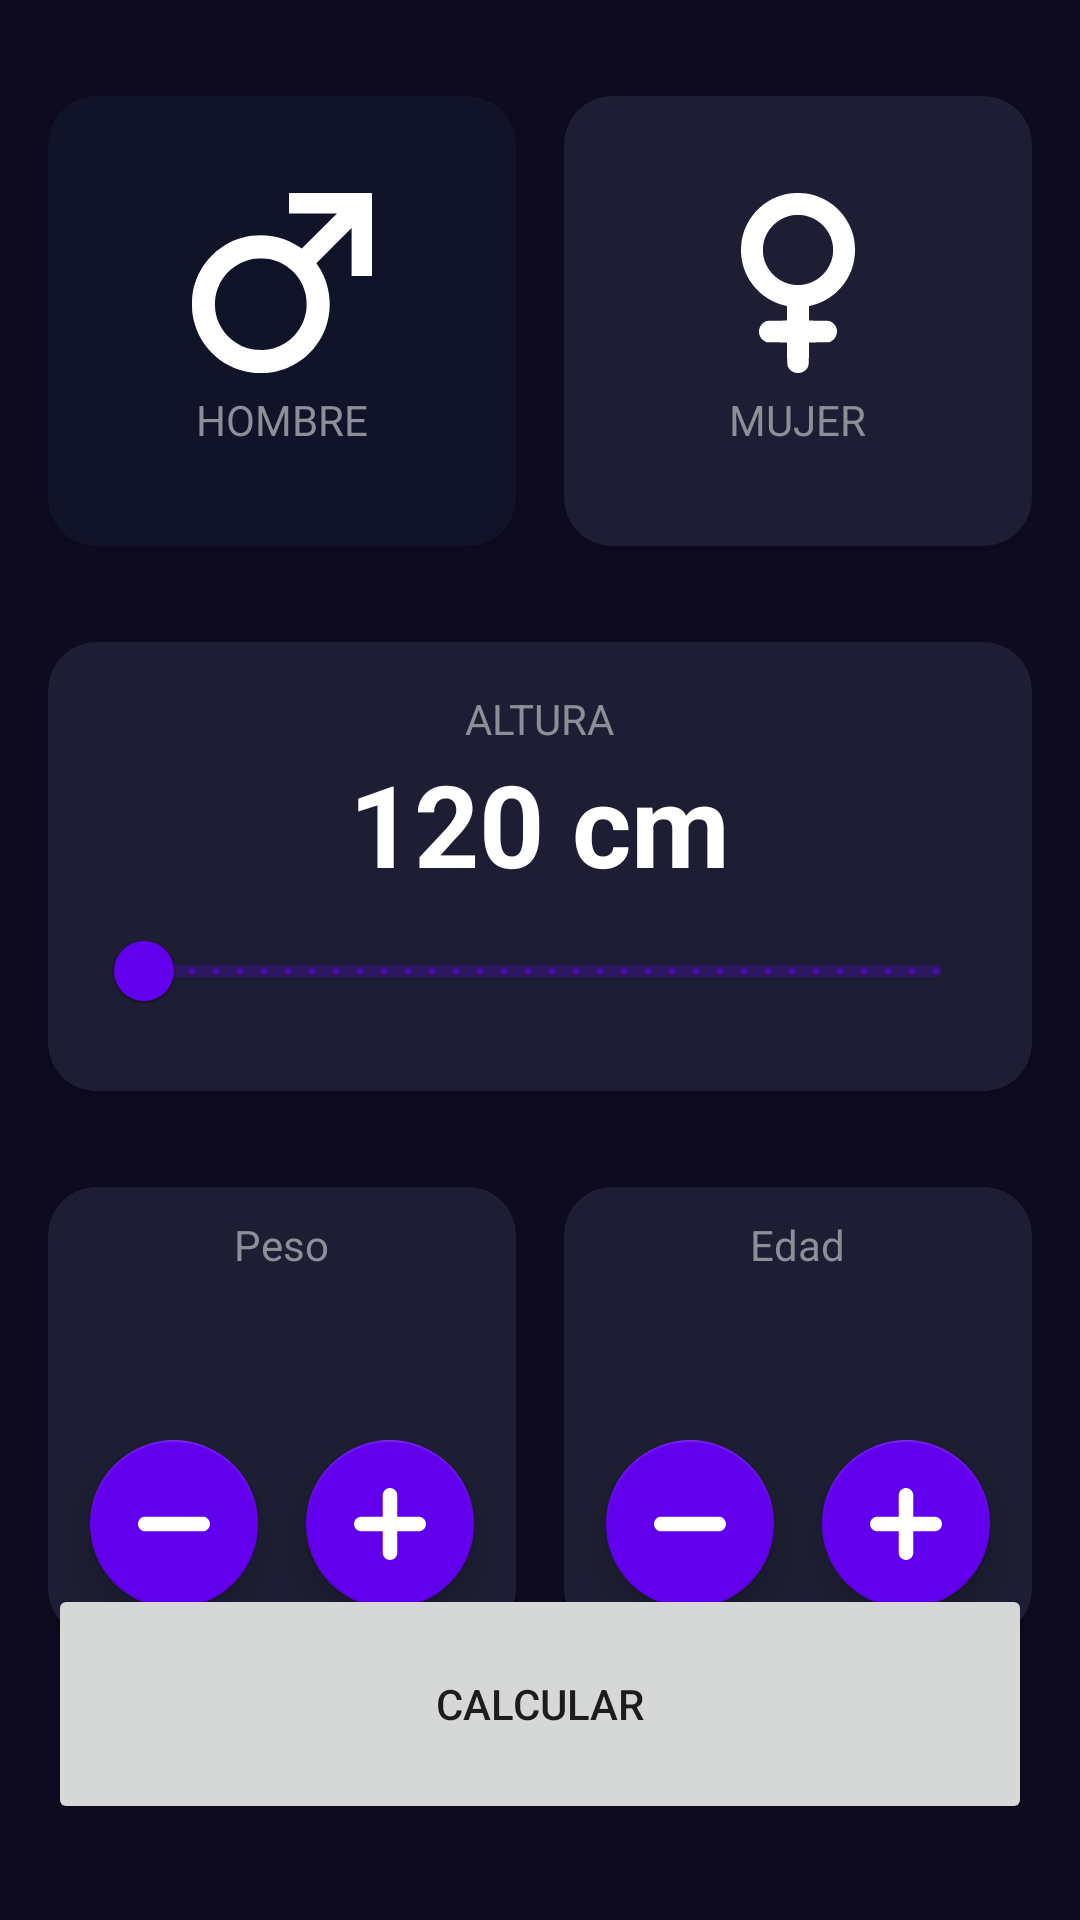

Icons on this 1080px×1920px Android screen, each with its box as (x1, y1, x2, y2):
plus: (306, 1440, 474, 1608), (822, 1440, 990, 1608)
subtraction: (90, 1440, 258, 1608), (606, 1440, 774, 1608)
